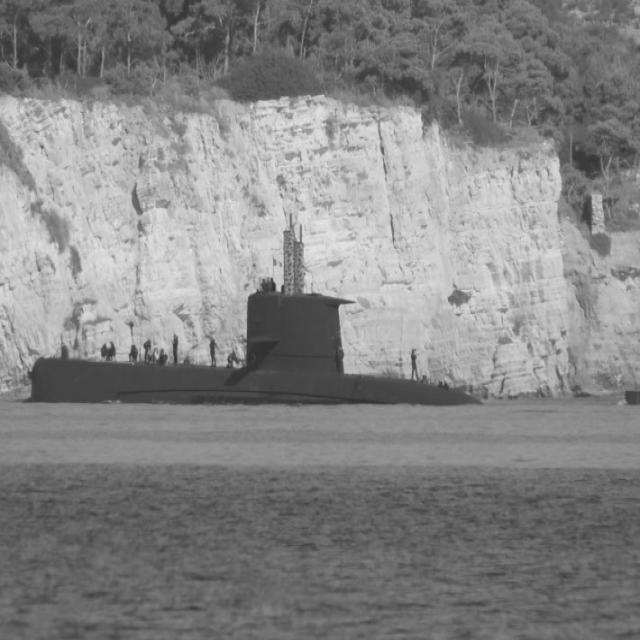submarine: (29, 290, 485, 408)
